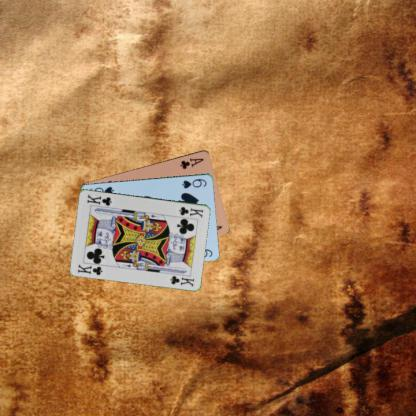6s: (180, 176, 208, 190)
Ac: (177, 155, 205, 170)
Kc: (176, 204, 205, 219), (75, 262, 104, 276)
